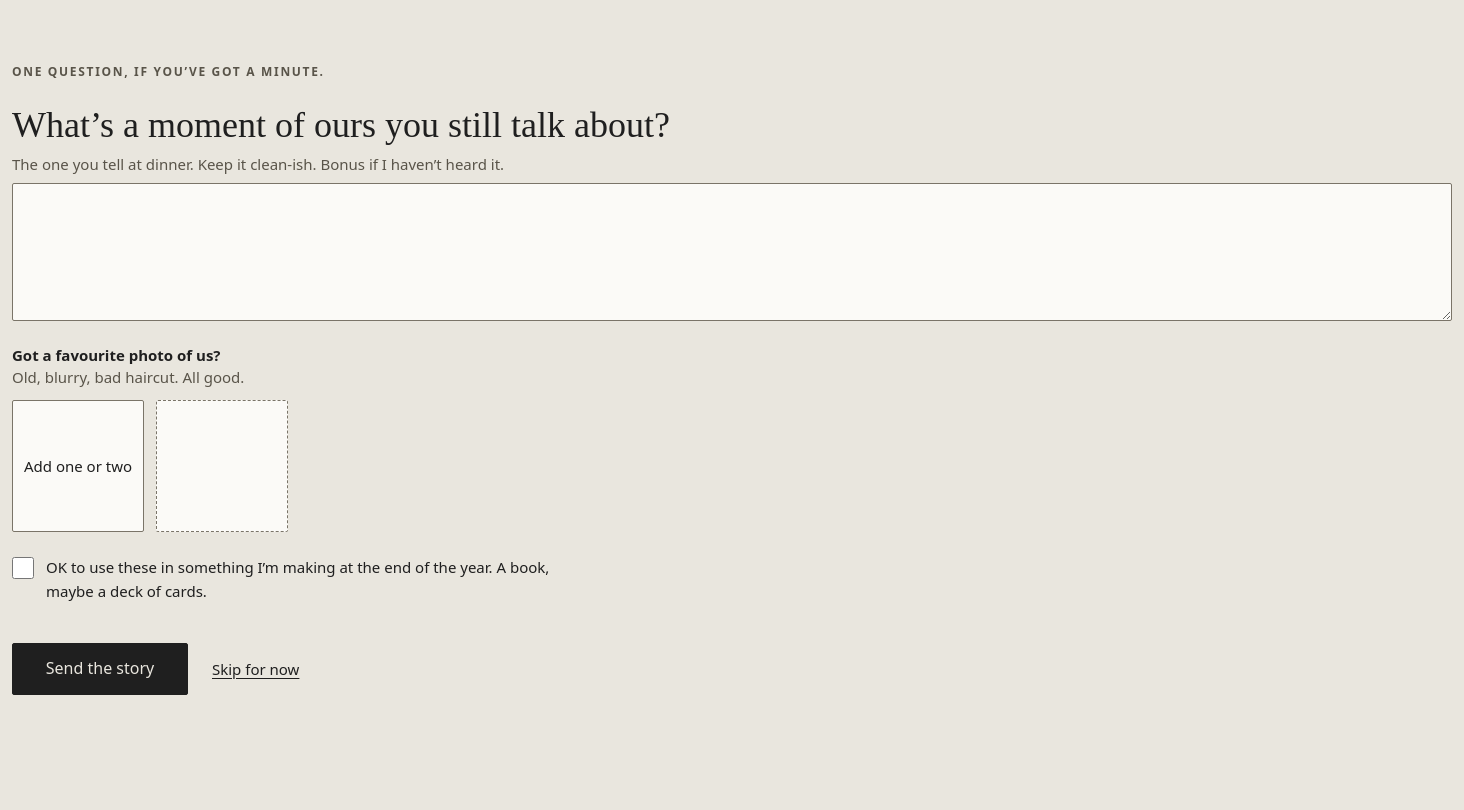
it: StoryForm Send › a network failure shows the generic error
In the text box labelled "What’s a moment of ours you still talk about?": (732,252) [12, 183, 1452, 321], type "hi"
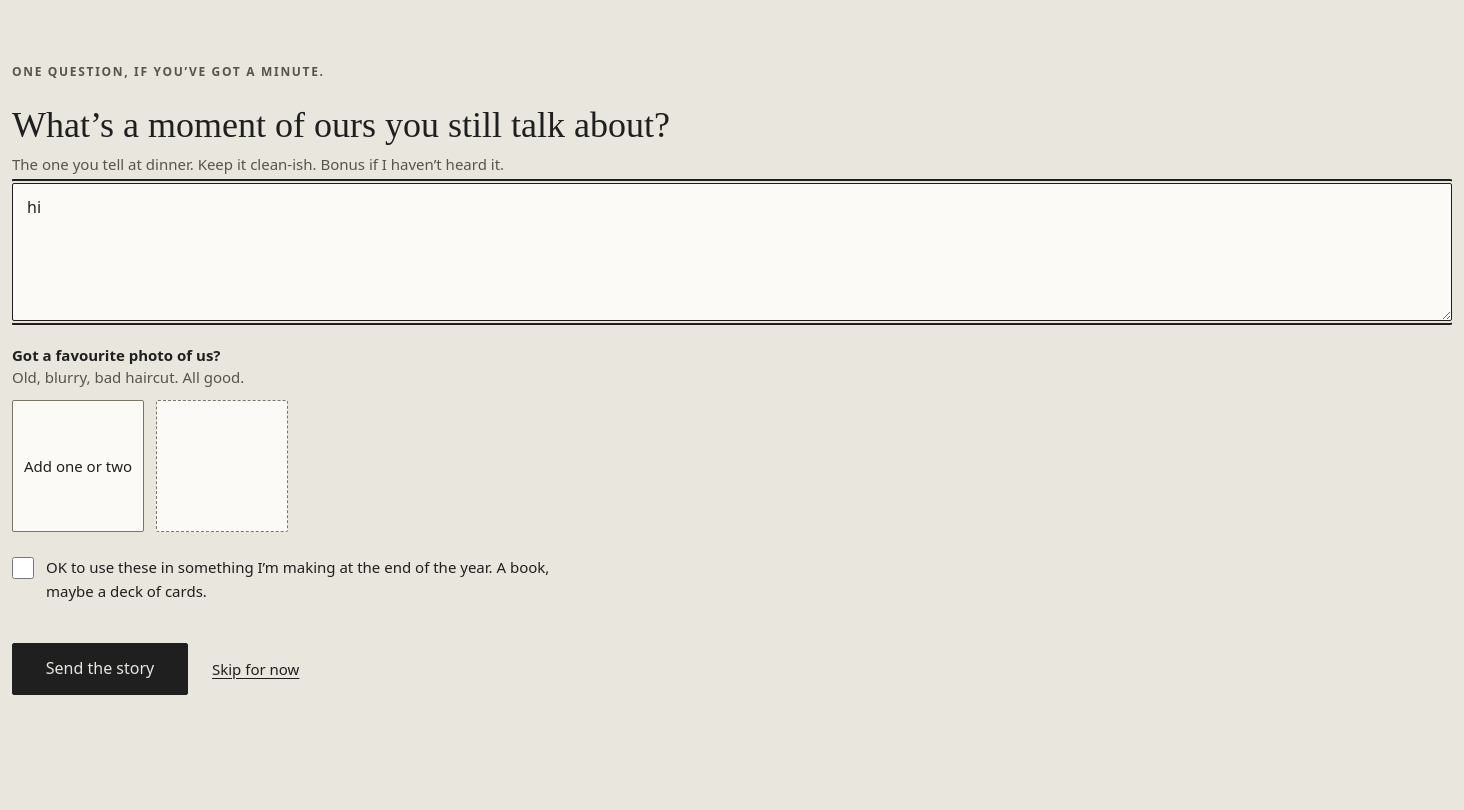
Click the button "Send the story": (100,669) [12, 643, 188, 695]
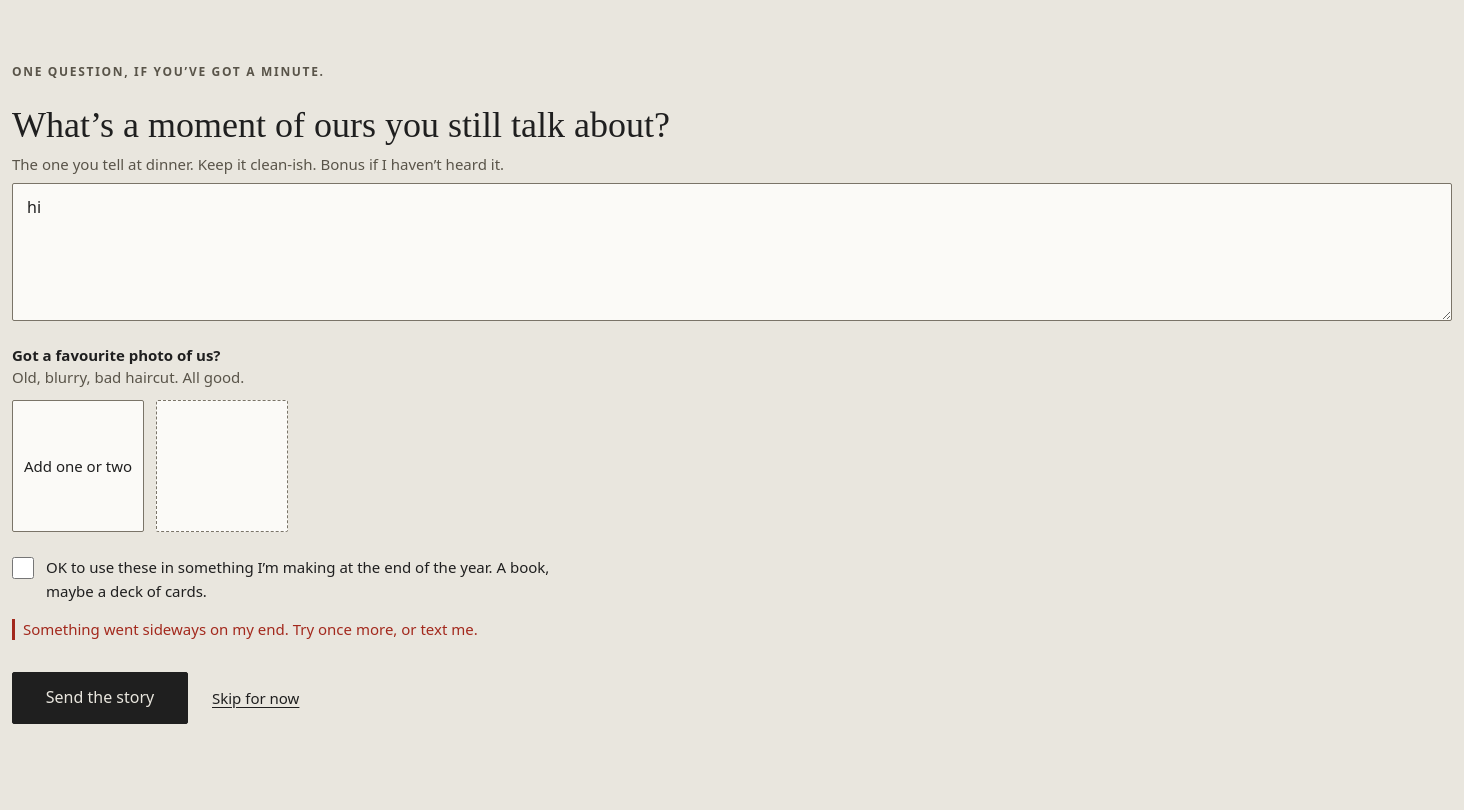
Result: the message reads "Something went sideways on my end. Try once more, or text me." at [23, 619, 478, 639]
